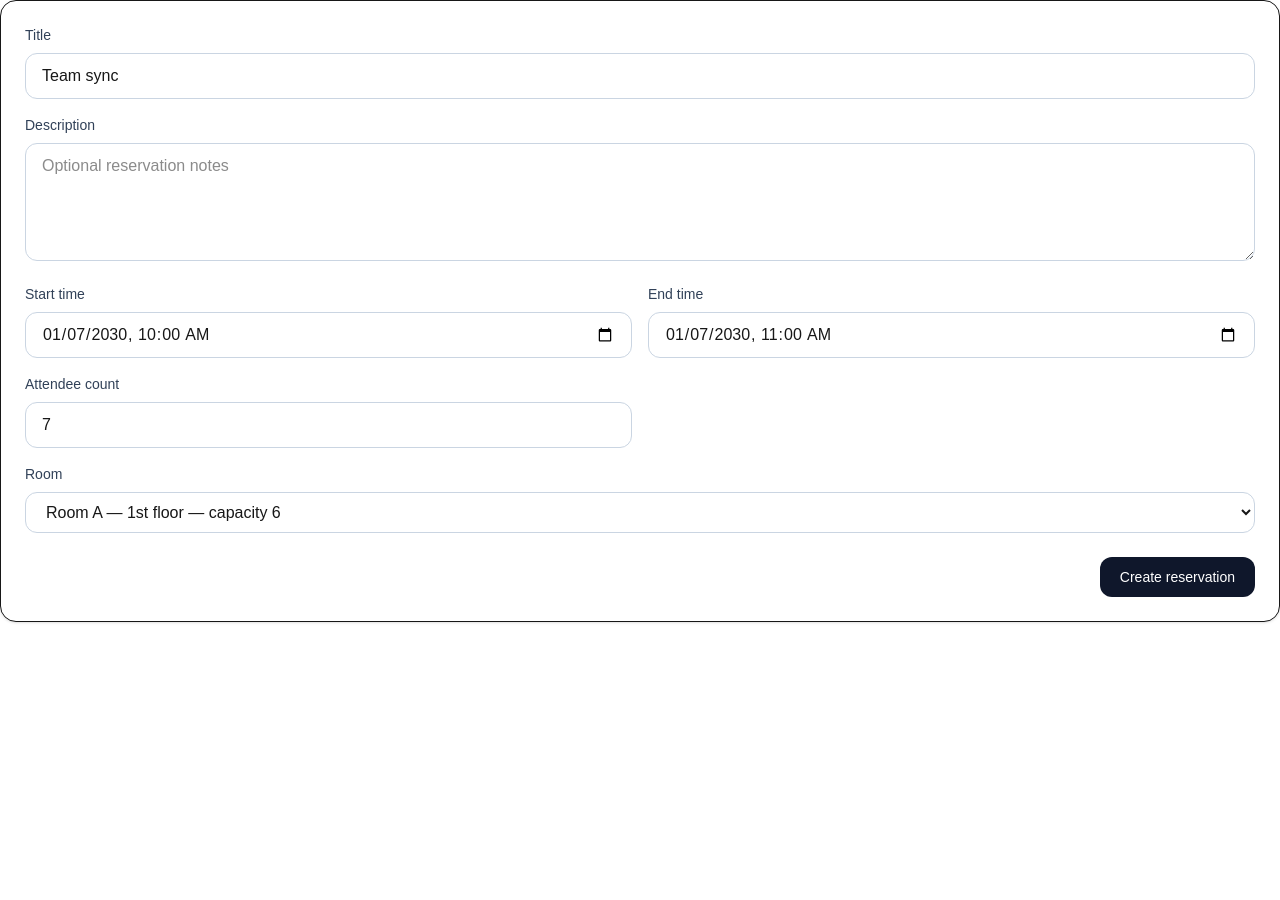
Test case: CreateReservationForm › rejects more attendees than the room holds
The width and height of the screenshot is (1280, 900).
Click the button "Create reservation".
click(1177, 577)  # box [1100, 557, 1255, 597]
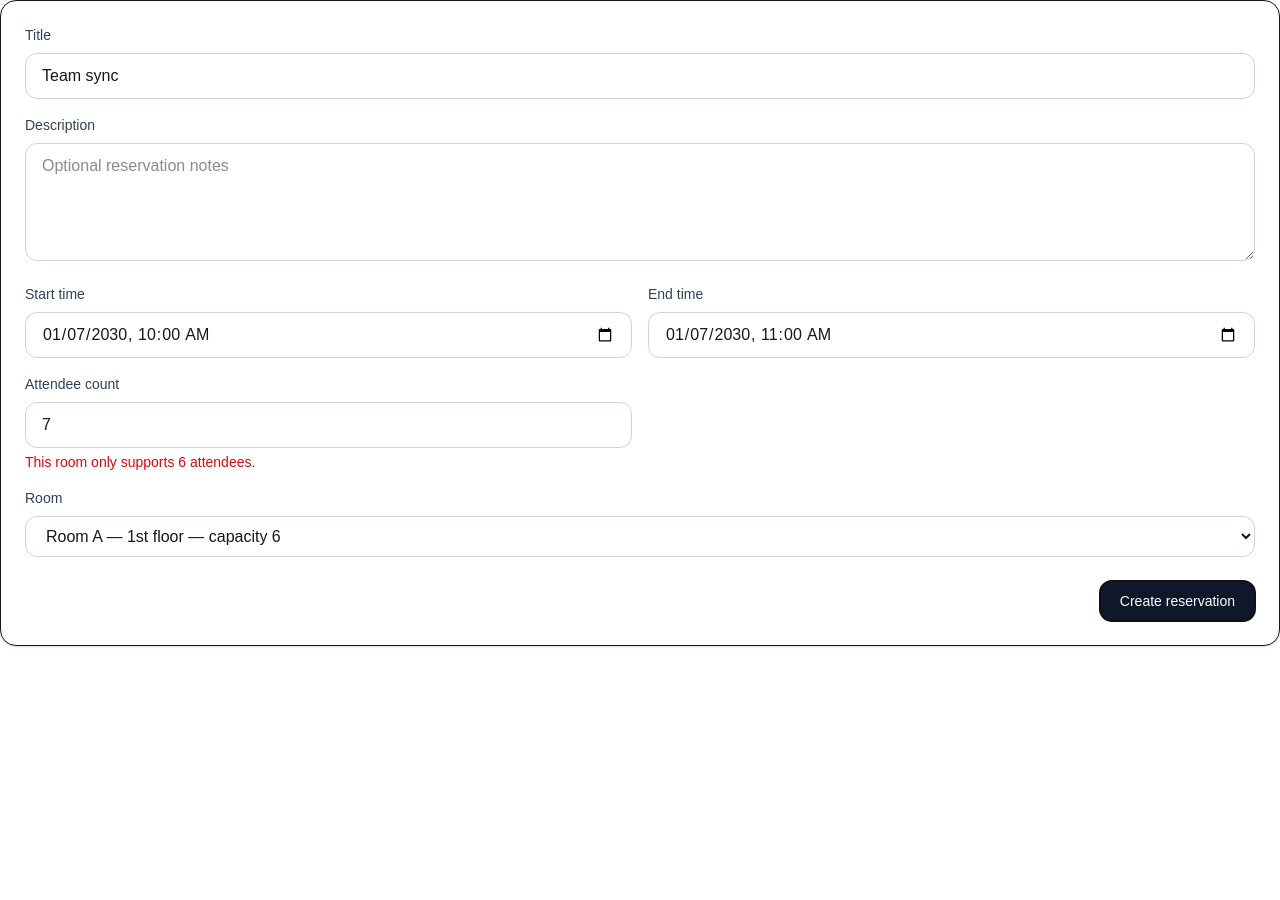
Expected: the text "This room only supports 6 attendees." is shown, [25, 454, 255, 470]
